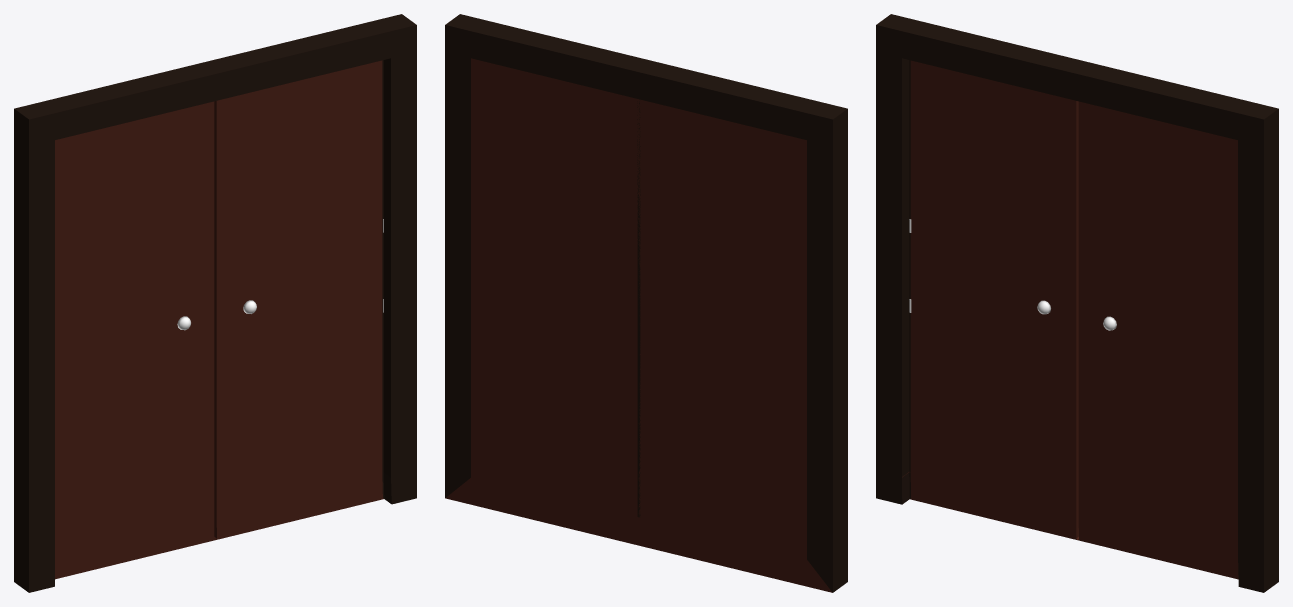
File: Double Door Closed.FBX
The picture shows the model from 3 angles, left to right: view 1: azimuth 30°, elevation 25°; view 2: azimuth 150°, elevation 25°; view 3: azimuth 330°, elevation 25°; orthographic projection.
Parts seen in each view (by area): view 1: Double Door Closed; view 2: Double Door Closed; view 3: Double Door Closed.
Boxes of the visible parts, left/top/right/bottom form: Double Door Closed: left=14, top=14, right=416, bottom=592; Double Door Closed: left=445, top=14, right=847, bottom=592; Double Door Closed: left=876, top=14, right=1278, bottom=592.
Size of the model in its own units: 3 by 3.5 by 0.2.
